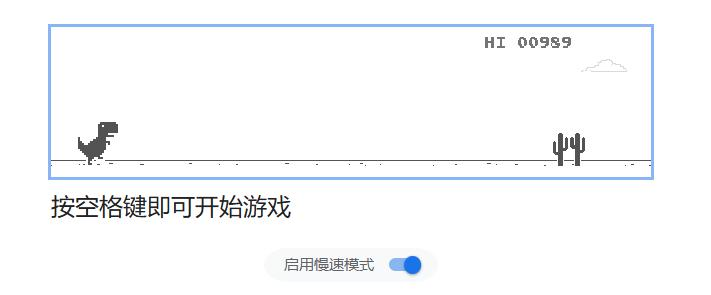cactus: (552, 132, 586, 167)
dino: (75, 120, 119, 166)
